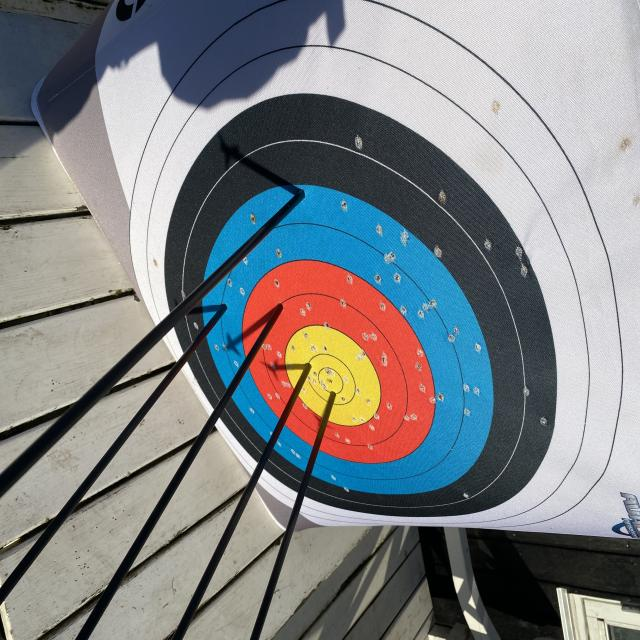Arrow_Blue: (284, 167, 314, 219), (209, 286, 239, 332)
Arrow_Red: (259, 288, 291, 324)
Arrow_Yellow: (293, 350, 322, 392), (321, 384, 345, 411)
